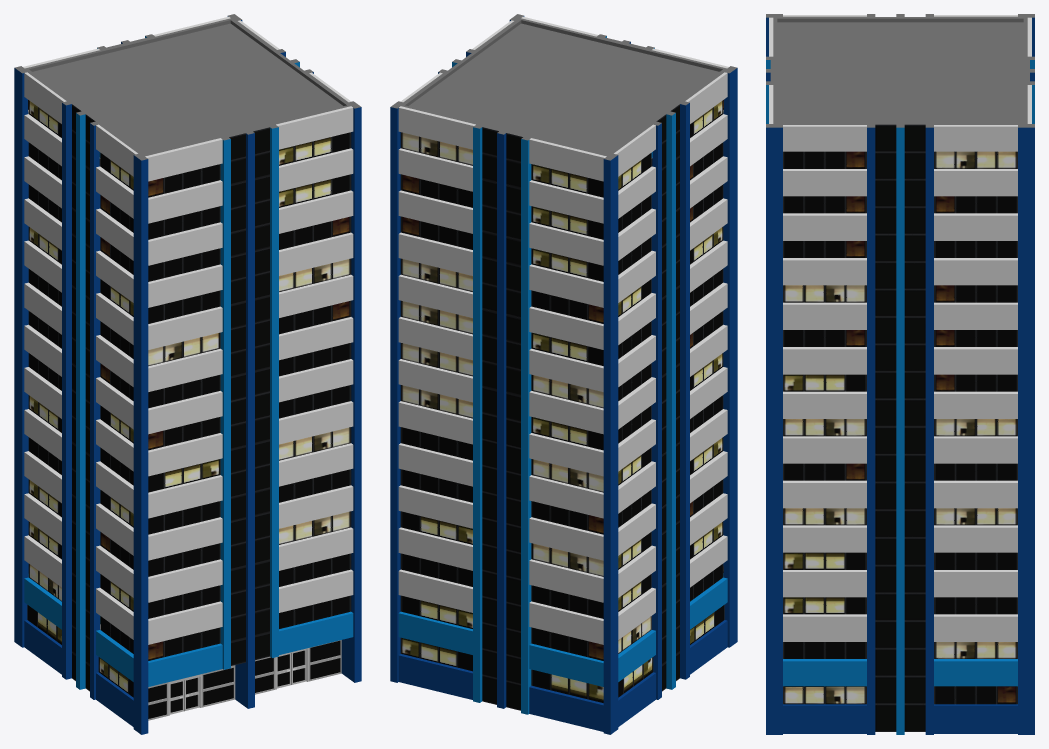
3 views of the same model, side by side, from view 1: azimuth 30°, elevation 25°; view 2: azimuth 150°, elevation 25°; view 3: azimuth 270°, elevation 25° (orthographic). The views are drawn at different scales.
Parts seen in each view (by area): view 1: BB-03; view 2: BB-03; view 3: BB-03.
Boxes of the visible parts, left/top/right/bottom form: BB-03: left=14, top=14, right=361, bottom=734; BB-03: left=390, top=14, right=737, bottom=734; BB-03: left=766, top=14, right=1034, bottom=734.
Size of what is drawn, in the model's own units: 16.4 by 40.9 by 16.4.
